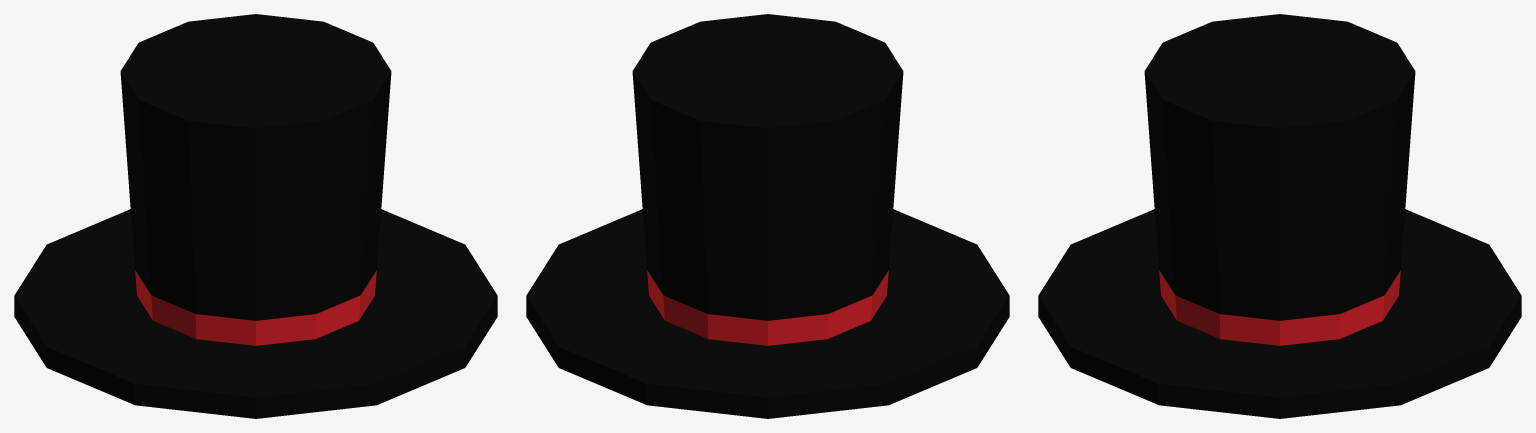
The model's file is Hat.obj.
3 renders of one model, left to right at view 1: azimuth 30°, elevation 25°; view 2: azimuth 150°, elevation 25°; view 3: azimuth 270°, elevation 25°, orthographic.
Visible parts, largest first — view 1: pCylinder1; view 2: pCylinder1; view 3: pCylinder1.
Part boxes in pixels (x1,y1,x2,y2): pCylinder1: [14, 14, 497, 418]; pCylinder1: [526, 14, 1009, 418]; pCylinder1: [1038, 14, 1521, 418].
Bounding box in the file's own units: 3.57 × 2 × 3.57.
1 material, 1 textured.
